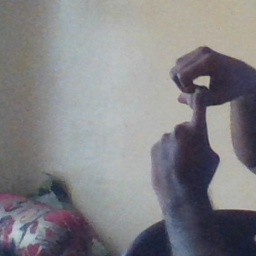Q: (145, 45, 230, 185)
